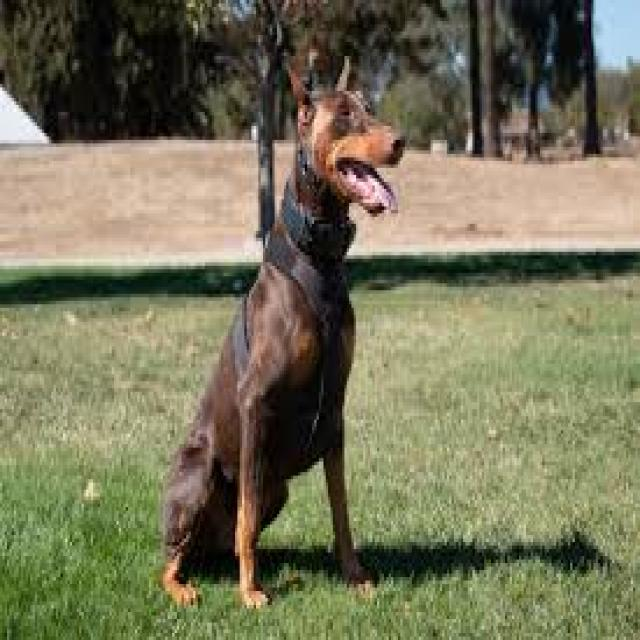Dog: (160, 48, 410, 610)
